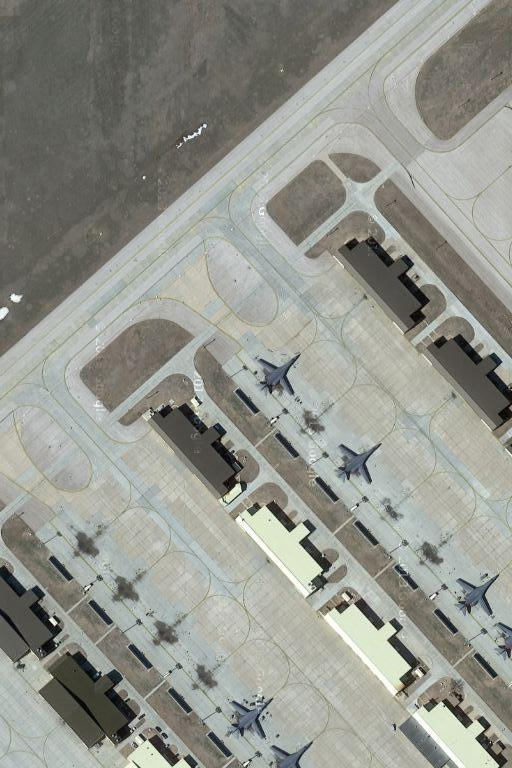B-1B: (226, 695, 275, 744), (334, 439, 383, 487), (255, 351, 303, 398), (453, 572, 501, 617)
